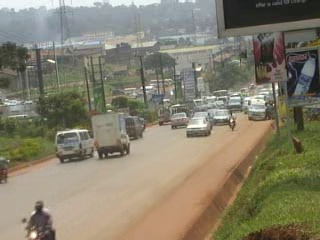Car: (185, 115, 214, 137), (208, 107, 235, 125), (156, 105, 176, 126), (167, 112, 191, 128), (193, 110, 213, 124)
Motorcycle: (21, 199, 59, 239), (0, 151, 10, 189), (226, 109, 237, 130)
